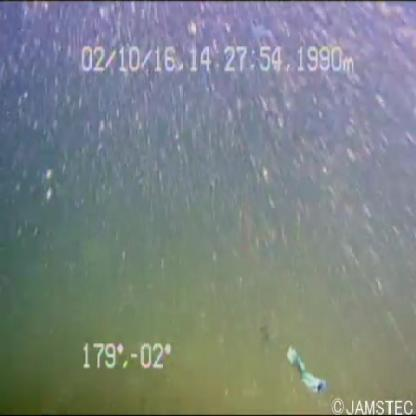Rác: (277, 333, 332, 395)
